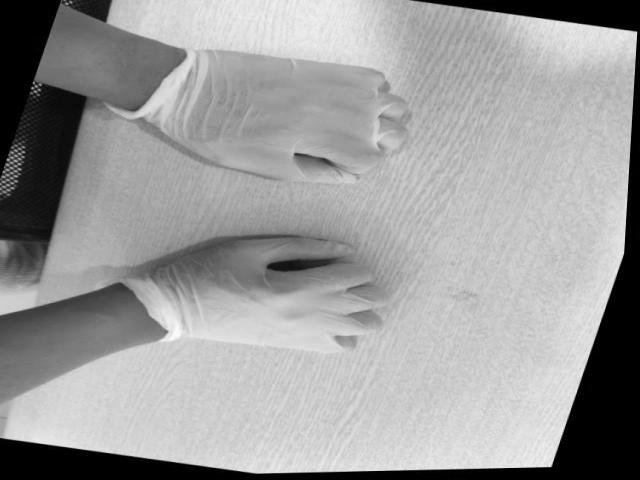gloved: (206, 46, 410, 189), (180, 234, 387, 356)
